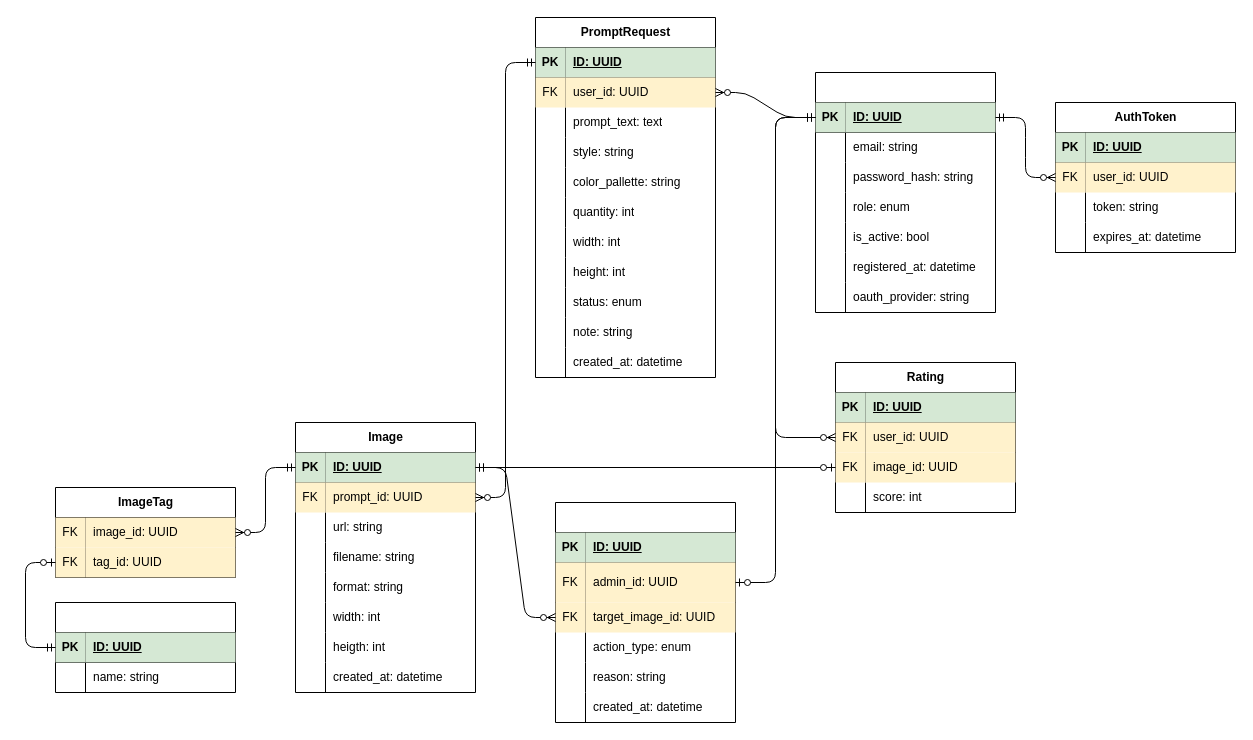
Image size: 1253x740. Some labels were removed from this diagram. Here are the shapes that lost their labels. From the top down, the box of each, then its label:
(814, 72, 996, 312): Client
(554, 502, 736, 722): AdminAction
(54, 602, 236, 692): Tag
